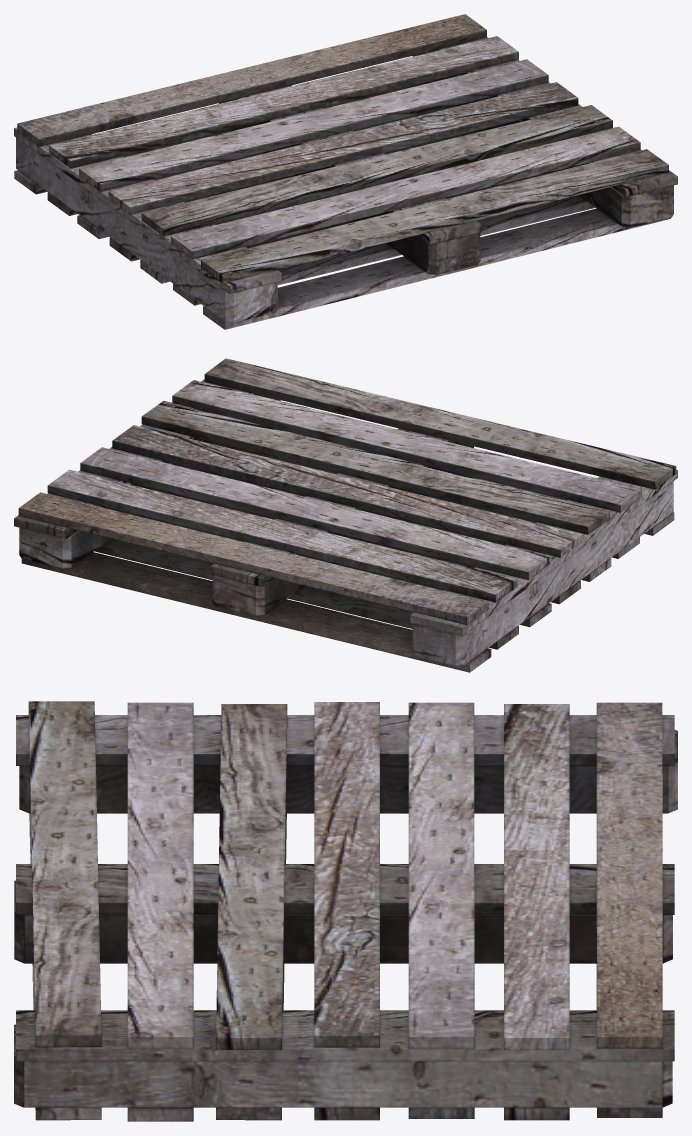
The model's file is pallet.FBX.
The picture shows the model from 3 angles, top to bottom: view 1: azimuth 30°, elevation 25°; view 2: azimuth 150°, elevation 25°; view 3: azimuth 270°, elevation 25°; orthographic projection. The views are drawn at different scales.
Visible parts, largest first — view 1: pallet; view 2: pallet; view 3: pallet.
Part boxes in pixels (<box>): pallet: <box>14,14,677,329</box>; pallet: <box>14,358,677,672</box>; pallet: <box>14,701,677,1121</box>.
Bounding box in the file's own units: 1.21 × 0.1396 × 1.01.
